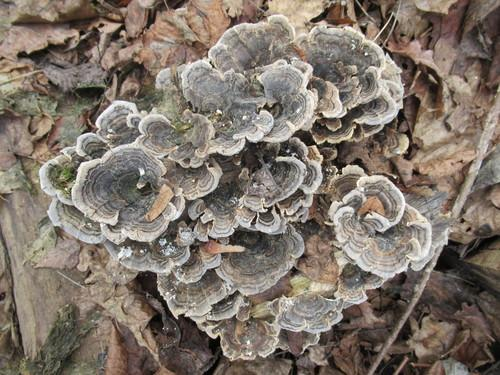poisonous_mushroom: (37, 13, 435, 361), (327, 173, 433, 279)
